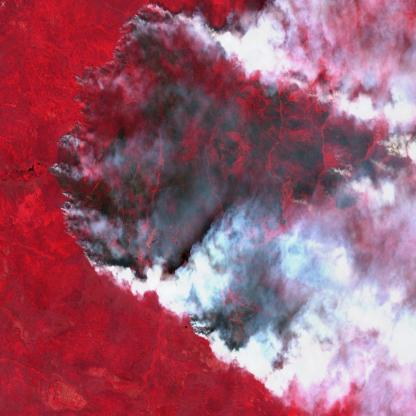fire: (50, 0, 401, 376)
